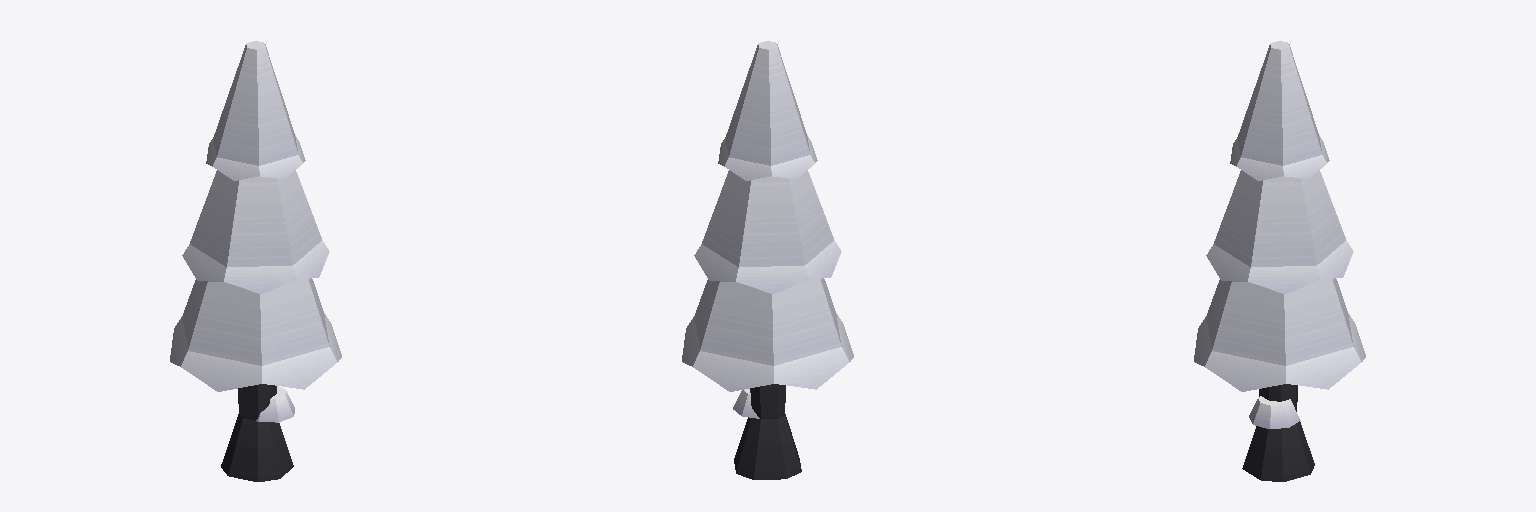
3 renders of one model, left to right at view 1: azimuth 30°, elevation 25°; view 2: azimuth 150°, elevation 25°; view 3: azimuth 270°, elevation 25°, orthographic.
Parts seen in each view (by area): view 1: tree.026; view 2: tree.026; view 3: tree.026.
Boxes of the visible parts, <box> form: tree.026: <box>170,41,341,481</box>; tree.026: <box>682,41,853,479</box>; tree.026: <box>1194,41,1365,481</box>.
Size of the model in its own units: 1.36 by 3.47 by 1.29.
Materials: 1 (1 with a texture image).